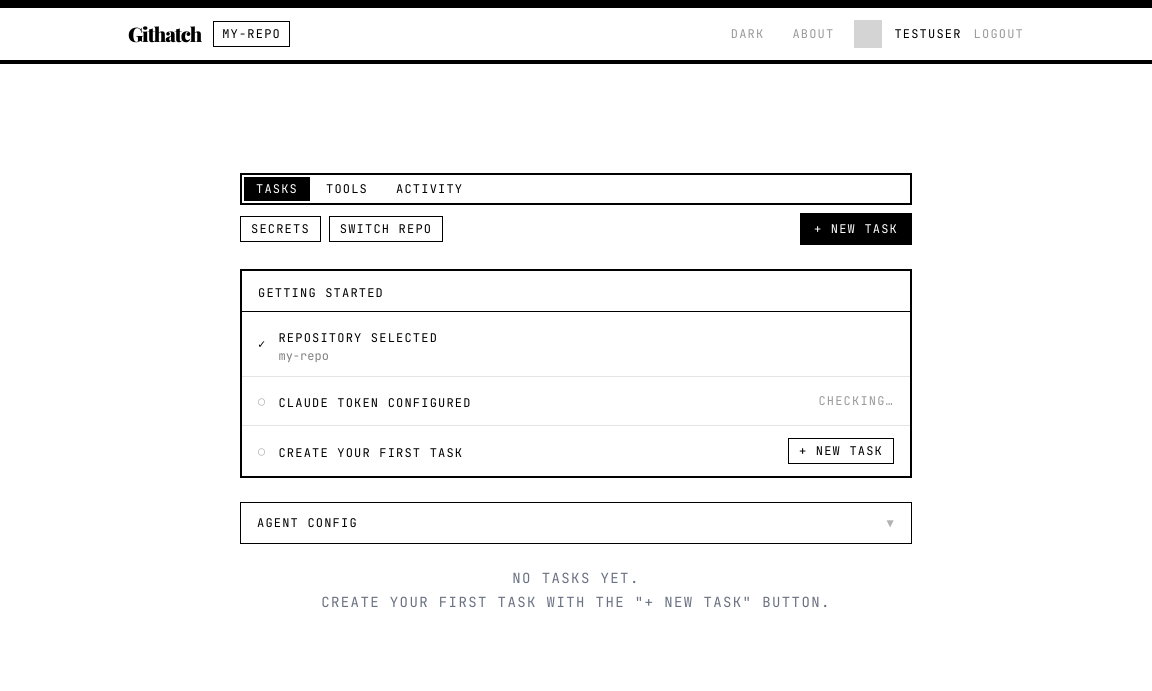
App — view navigation › navigates back from new-task to tasks with back button
Click the 1st button "+ New task". click: (856, 228)
box: [800,212,912,244]
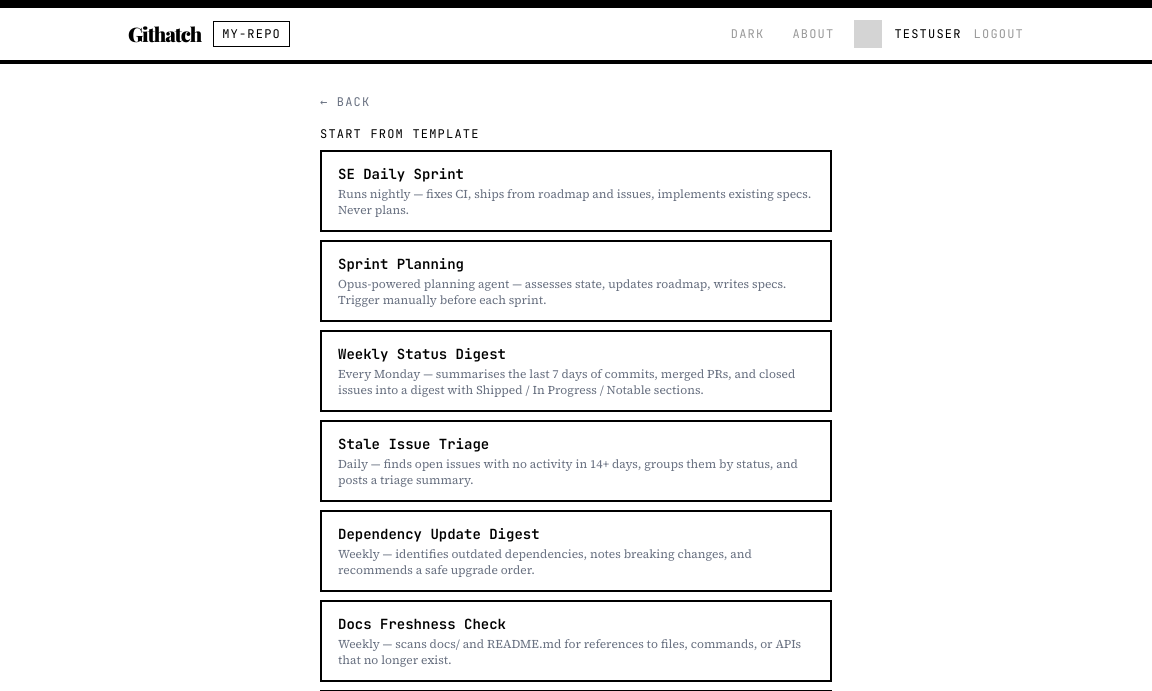
Click the button "← Back". click: (345, 102)
box: [320,94,370,110]
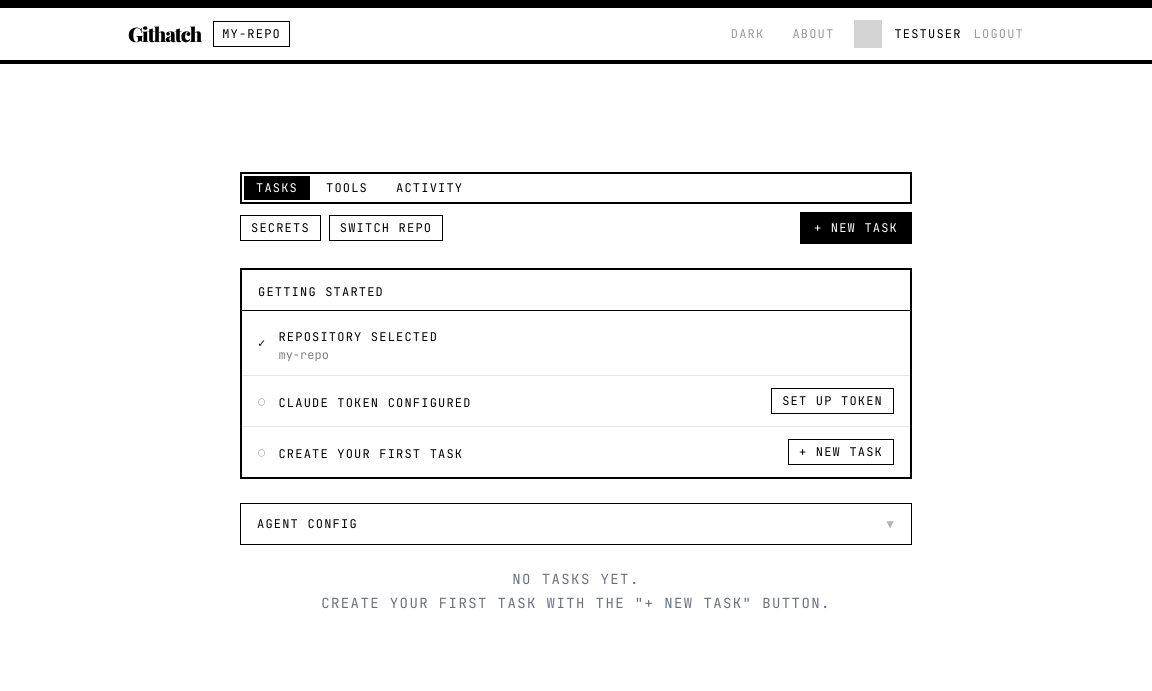
Result: the 1st button "+ New task" is shown at [800,212,912,244]
